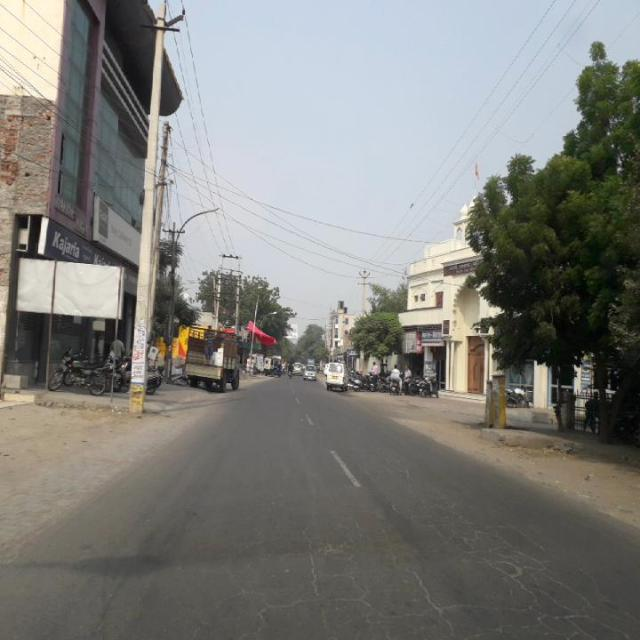crack: (199, 493, 637, 639)
